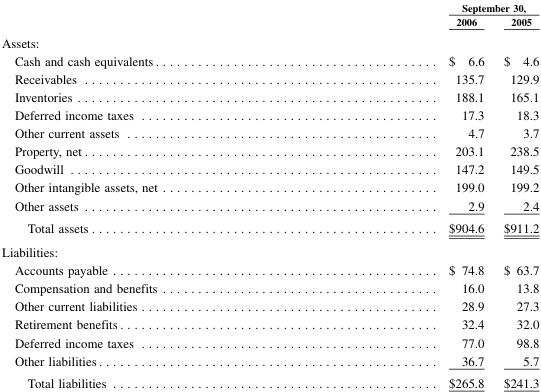table: (0, 0, 538, 389)
table column: (0, 0, 302, 389), (302, 0, 493, 389), (493, 0, 538, 389)
table column header: (0, 0, 538, 31)
table projected row header: (0, 239, 538, 260), (0, 31, 538, 51)
table row: (0, 216, 538, 239), (0, 239, 538, 260), (0, 31, 538, 51), (0, 196, 538, 216), (0, 351, 538, 371), (0, 159, 538, 178), (0, 314, 538, 333), (0, 13, 538, 31), (0, 51, 538, 69), (0, 69, 538, 87), (0, 87, 538, 105), (0, 105, 538, 123), (0, 123, 538, 141), (0, 141, 538, 159), (0, 178, 538, 196), (0, 260, 538, 278), (0, 278, 538, 296), (0, 296, 538, 314), (0, 333, 538, 351), (0, 371, 538, 389), (0, 0, 538, 13)
table spanning cell: (302, 0, 538, 13)
